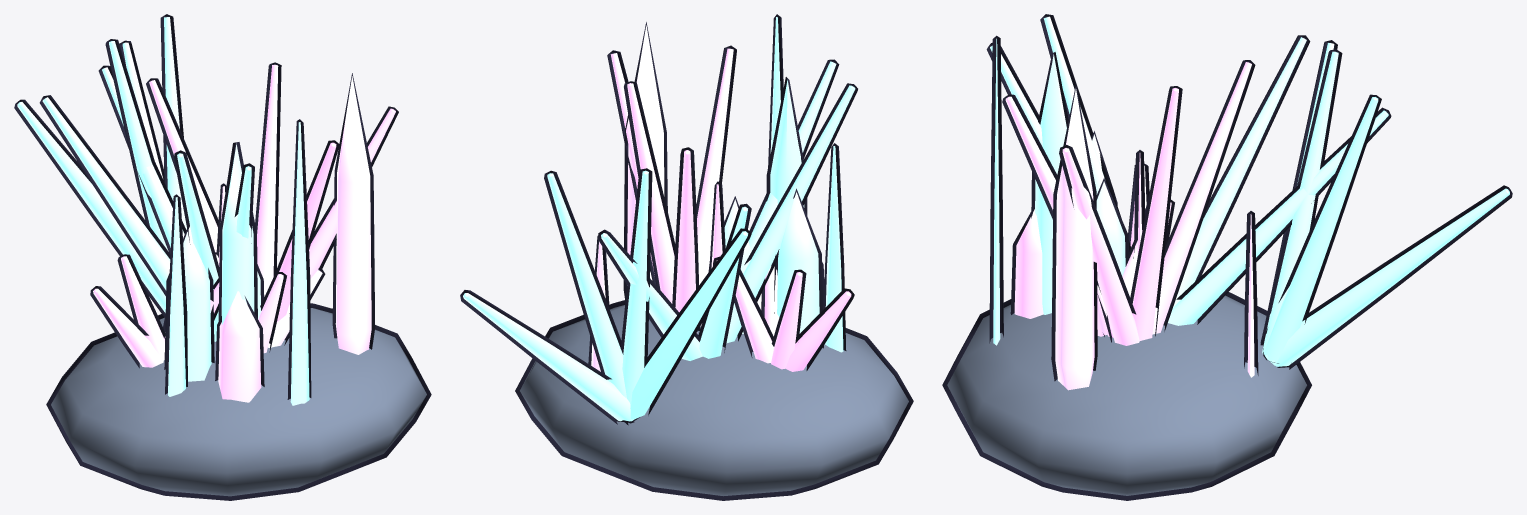
Rendered from coral_0.glb.
3 renders of one model, left to right at view 1: azimuth 30°, elevation 25°; view 2: azimuth 150°, elevation 25°; view 3: azimuth 270°, elevation 25°, orthographic. The views are drawn at different scales.
Parts seen in each view (by area): view 1: Coral; view 2: Coral; view 3: Coral.
Part boxes in pixels (x1,y1,x2,y2): Coral: (14, 14, 431, 500); Coral: (460, 14, 913, 500); Coral: (942, 14, 1512, 500).
Size of the model in its own units: 3.44 by 3.73 by 4.56.
